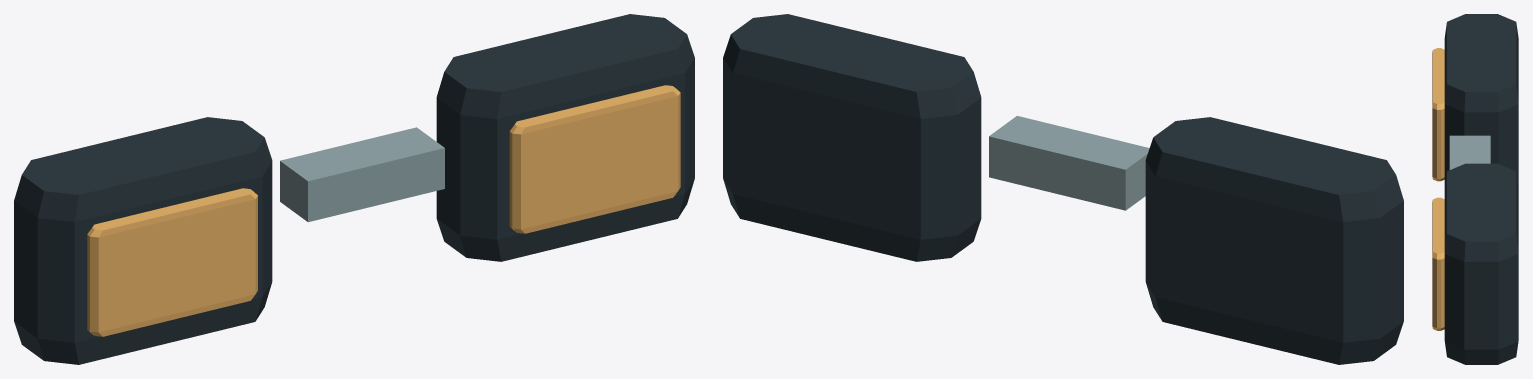
The model's file is SM_NPC_ACCESSORY_002_Goggles.glb.
3 renders of one model, left to right at view 1: azimuth 30°, elevation 25°; view 2: azimuth 150°, elevation 25°; view 3: azimuth 270°, elevation 25°, orthographic. The views are drawn at different scales.
Parts seen in each view (by area): view 1: SM_NPC_ACCESSORY_002_Goggles; view 2: SM_NPC_ACCESSORY_002_Goggles; view 3: SM_NPC_ACCESSORY_002_Goggles.
Part boxes in pixels (<box>): SM_NPC_ACCESSORY_002_Goggles: <box>14,14,694,364</box>; SM_NPC_ACCESSORY_002_Goggles: <box>723,14,1403,364</box>; SM_NPC_ACCESSORY_002_Goggles: <box>1432,14,1518,364</box>.
Bounding box in the file's own units: 0.336 × 0.083 × 0.0525.
